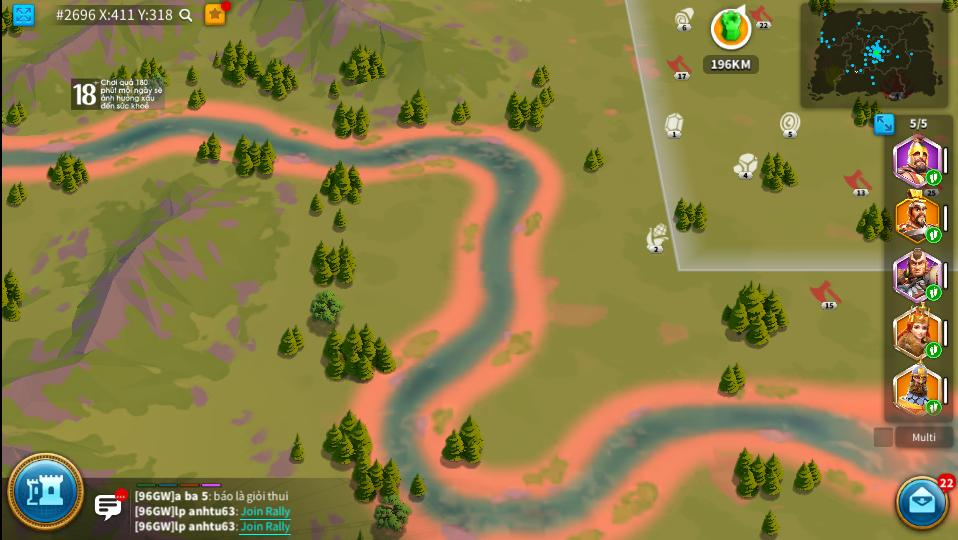gem-z-out: (663, 112, 684, 138)
march_marching: (925, 228, 942, 242), (926, 170, 940, 185), (927, 400, 941, 415), (926, 285, 940, 299), (928, 343, 940, 357)
